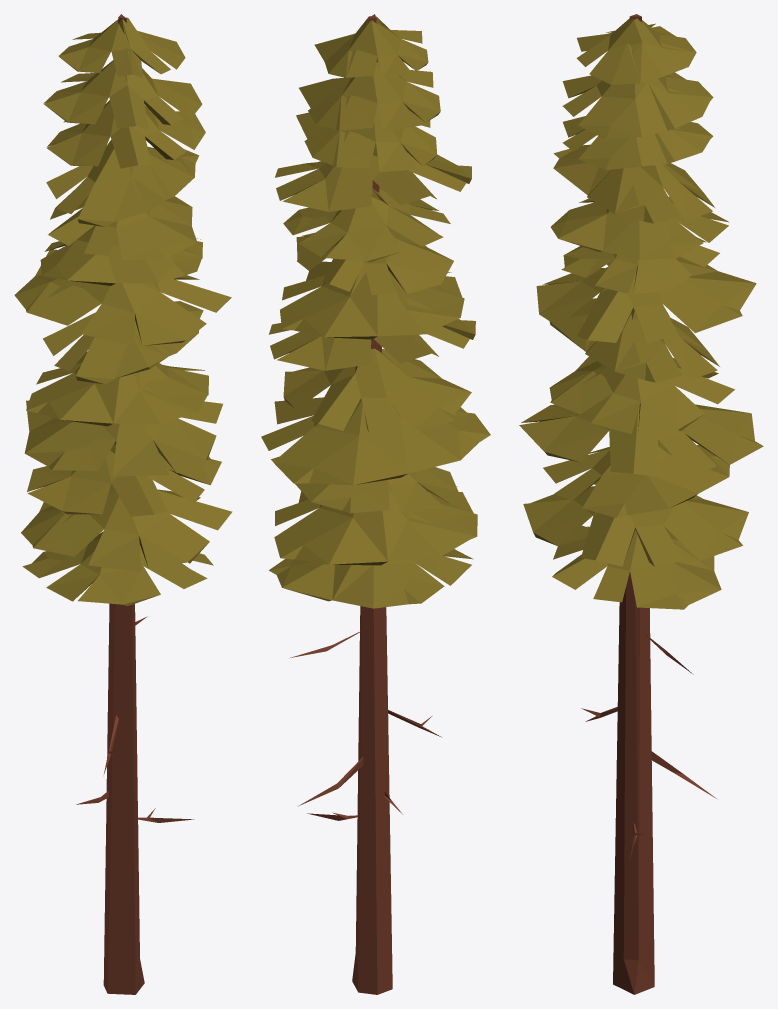
File: pine_healthy_type_4_LOD1.fbx
3 views of the same model, side by side, from view 1: azimuth 30°, elevation 25°; view 2: azimuth 150°, elevation 25°; view 3: azimuth 270°, elevation 25° (orthographic).
Parts seen in each view (by area): view 1: pine_trunk.011; view 2: pine_trunk.011; view 3: pine_trunk.011.
Part boxes in pixels (bbox=[...]): pine_trunk.011: bbox=[14, 14, 232, 994]; pine_trunk.011: bbox=[261, 14, 490, 994]; pine_trunk.011: bbox=[519, 14, 763, 994].
Bounding box in the file's own units: 608 × 2872 × 658.
